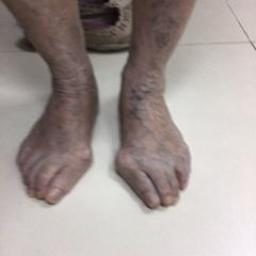Dorsal View -Both Feet-: (10, 41, 197, 224)
